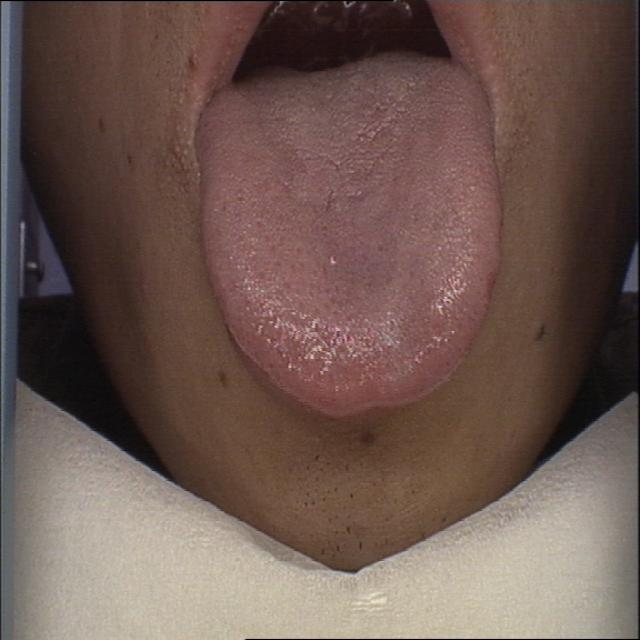tongue: (194, 51, 508, 424)
